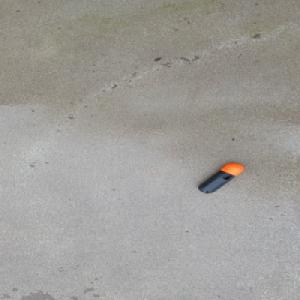PlasticPart: (196, 162, 245, 193)
